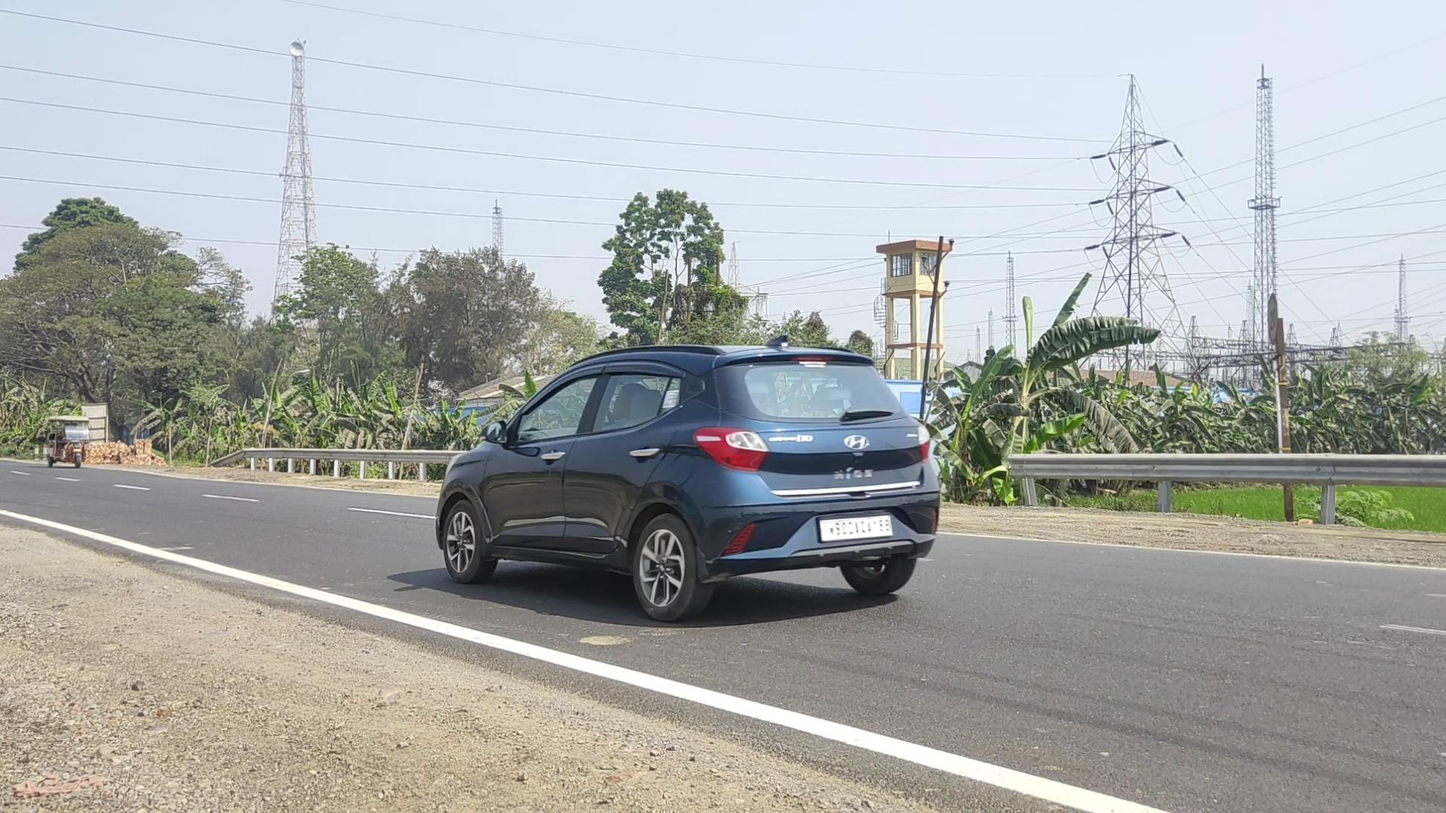Auto: (45, 415, 92, 468)
car: (435, 334, 941, 623)
